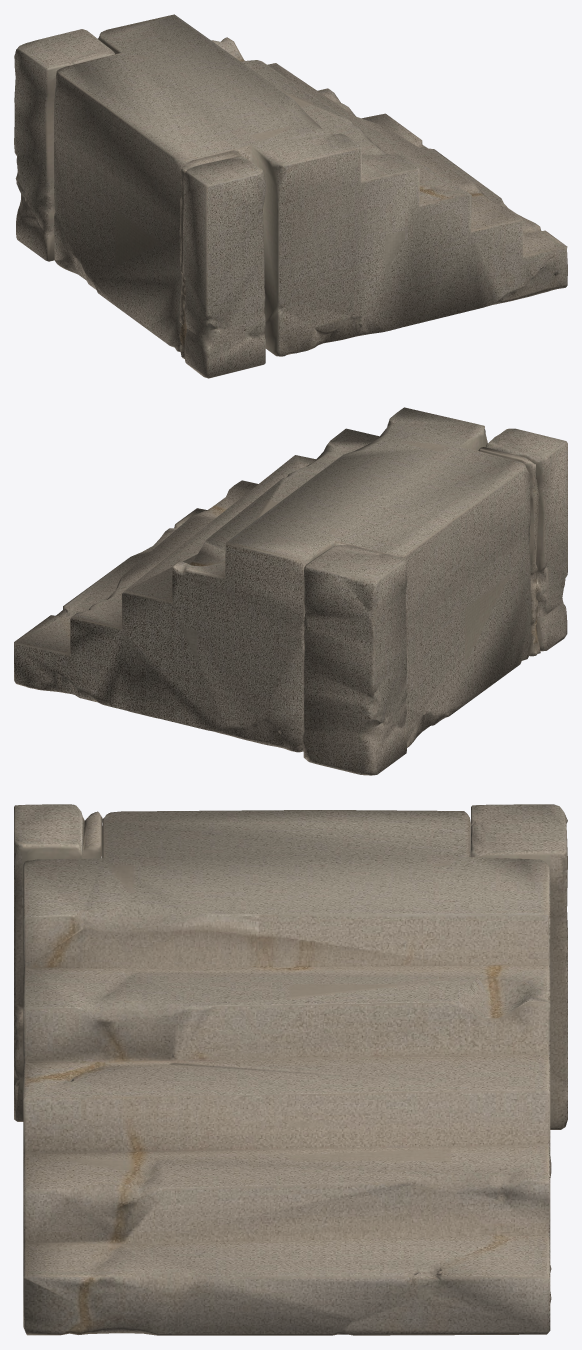
Rendered from tripo_convert_369bd11c-5ce9-445e-b410-5bf4cd2be36c.fbx.
3 views of the same model, one above another, from view 1: azimuth 30°, elevation 25°; view 2: azimuth 150°, elevation 25°; view 3: azimuth 270°, elevation 25° (orthographic). The views are drawn at different scales.
Visible parts, largest first — view 1: tripo_node_369bd11c; view 2: tripo_node_369bd11c; view 3: tripo_node_369bd11c.
Boxes of the visible parts, x1=… form: tripo_node_369bd11c: x1=14, y1=14, x2=567, y2=378; tripo_node_369bd11c: x1=14, y1=407, x2=567, y2=775; tripo_node_369bd11c: x1=14, y1=804, x2=567, y2=1335.
Bounding box in the file's own units: 0.998 × 0.5059 × 0.916.
Materials: 1 (1 with a texture image).
